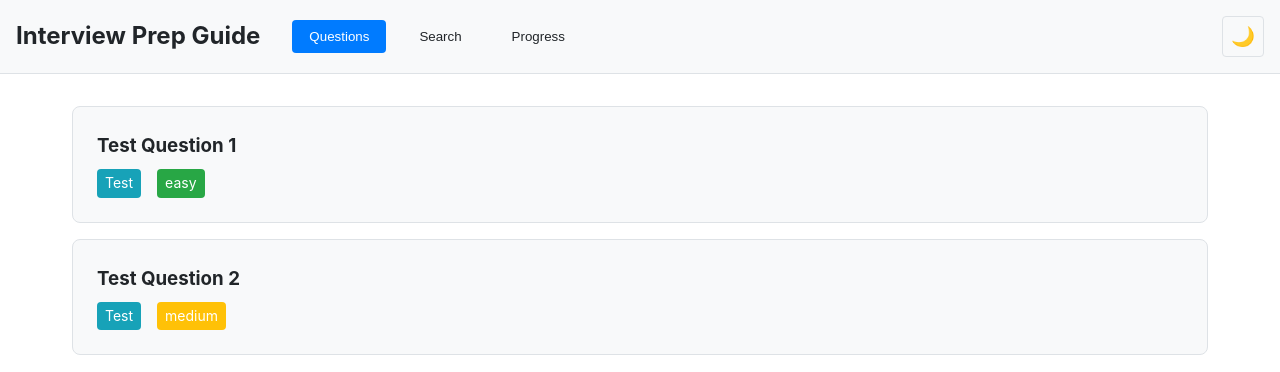
Test: App › theme toggle › should update theme button icon
The width and height of the screenshot is (1280, 372).
Click the button with class "theme-toggle".
click(1243, 36)  # box [1222, 16, 1264, 57]
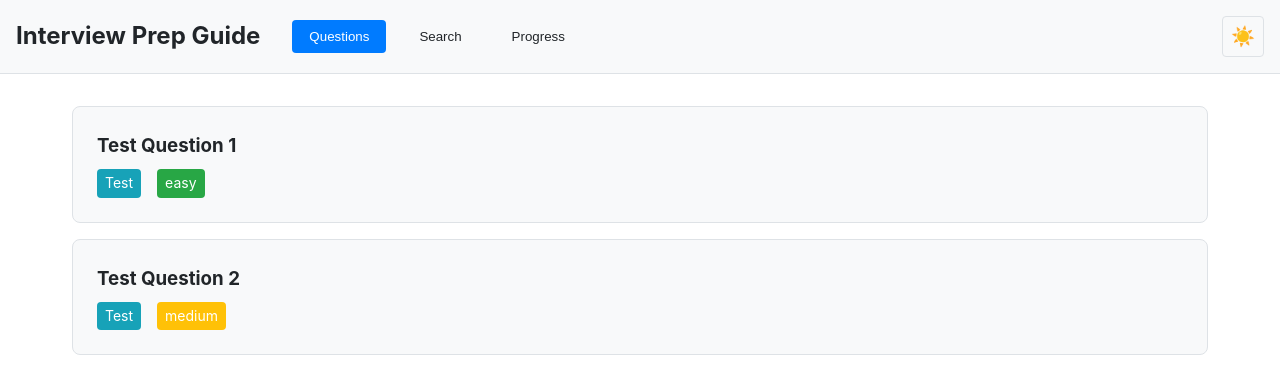
Now the button with class "theme-toggle" reads "☀️", box [1222, 16, 1264, 57]
